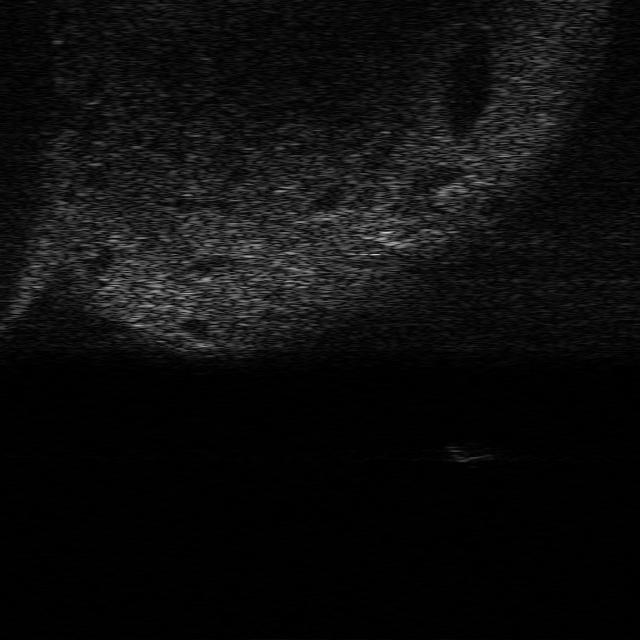cube: (445, 440, 495, 464)
